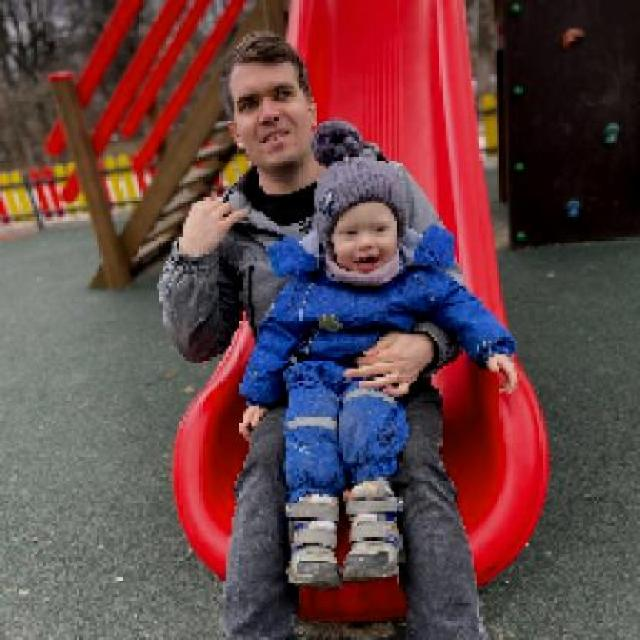child: (237, 119, 517, 592)
